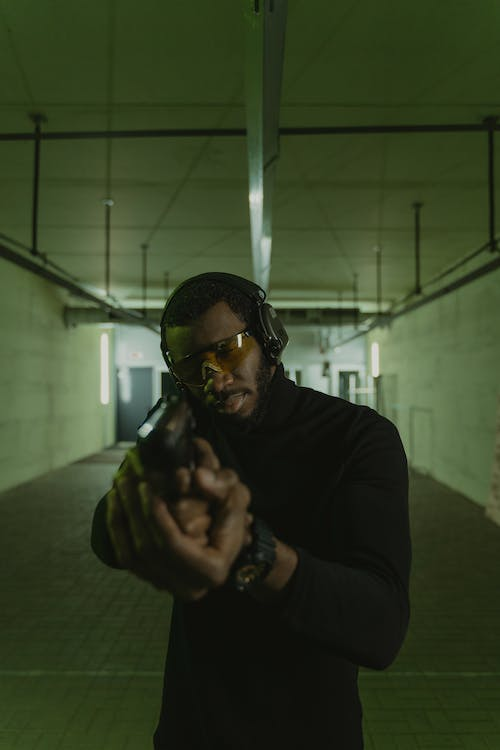gun: (132, 386, 203, 471)
